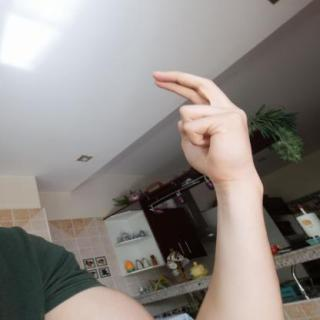ZAY: (142, 66, 264, 189)
